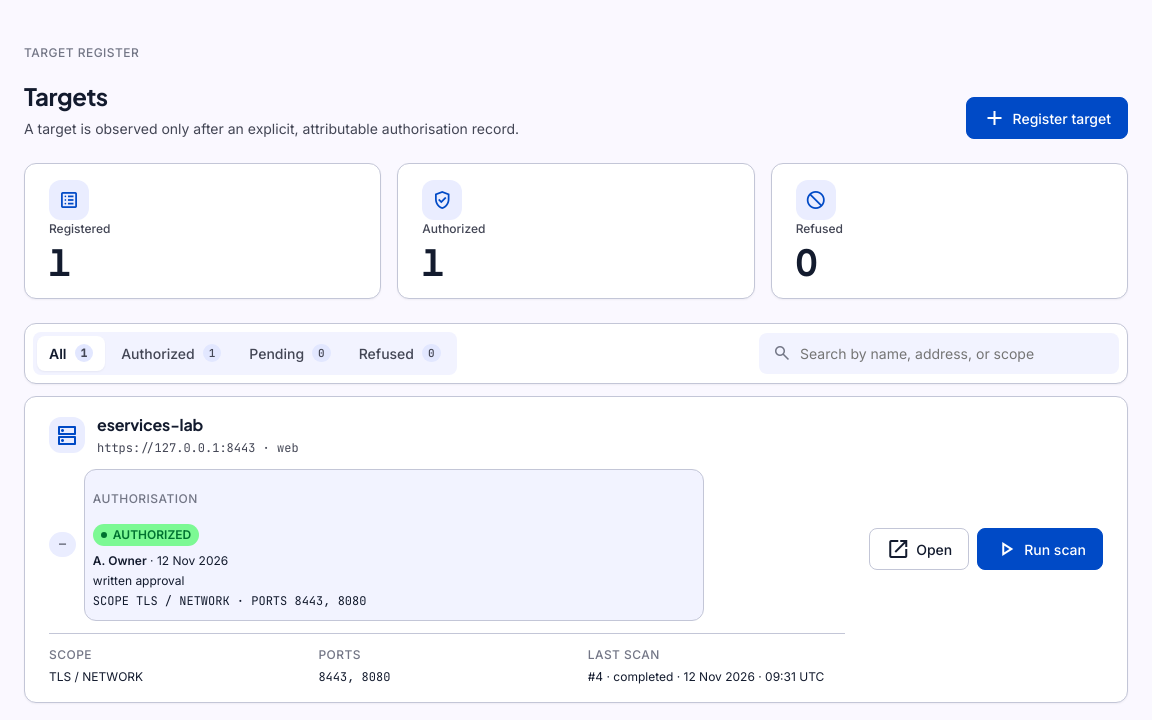
Test: Targets › keeps the register sheet reachable
Click the button "Register target" at (1047, 118), box [966,97,1128,139]
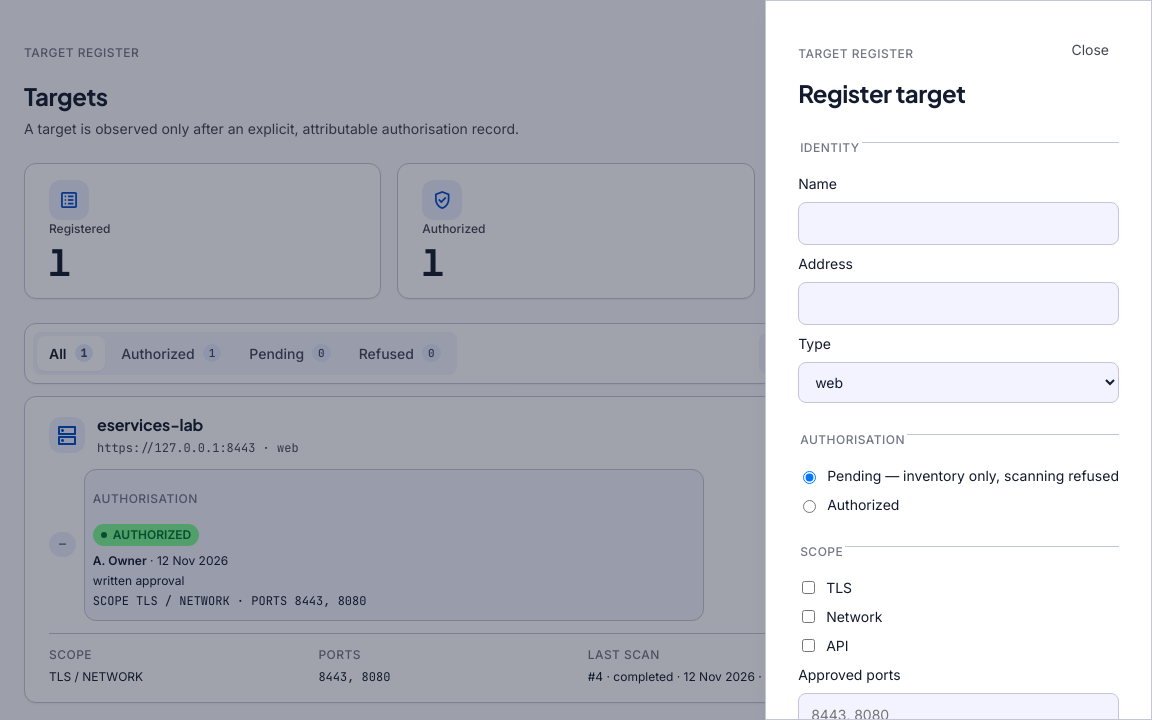
Expected: the dialog "Register target" is shown, [765,0,1151,719]
